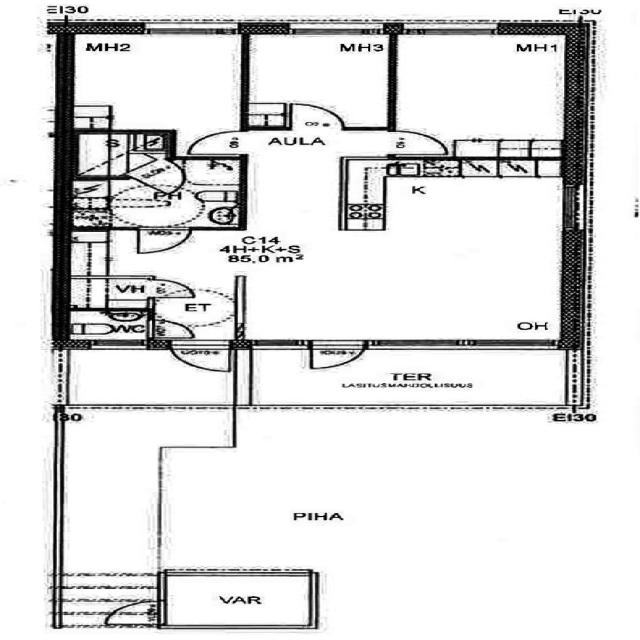door: (304, 339, 369, 372), (279, 100, 350, 130), (166, 342, 232, 373), (128, 226, 198, 255), (183, 129, 255, 157), (384, 127, 445, 156), (102, 601, 161, 625), (146, 278, 198, 301), (146, 318, 194, 340)
window: (363, 335, 561, 358), (552, 346, 598, 404), (275, 21, 385, 41), (408, 21, 506, 38)
zone: (392, 29, 574, 156), (68, 32, 246, 131), (64, 133, 243, 229), (244, 29, 392, 121), (160, 570, 314, 629), (61, 307, 150, 345), (61, 277, 154, 309)
